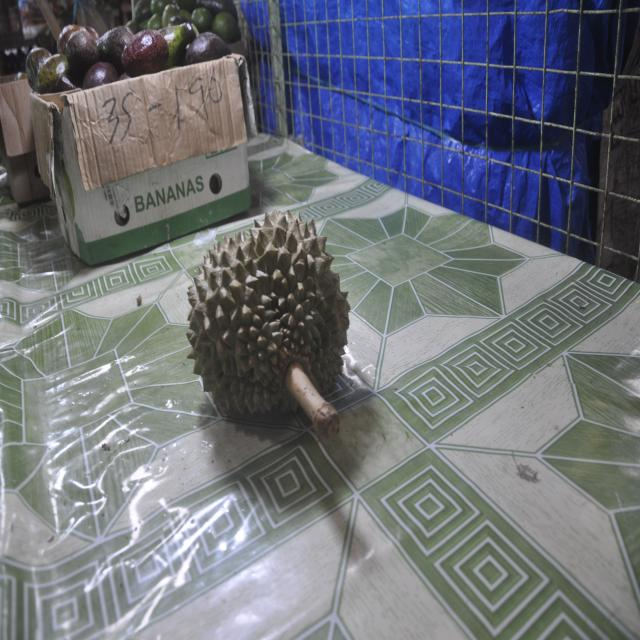mature: (186, 209, 351, 449)
